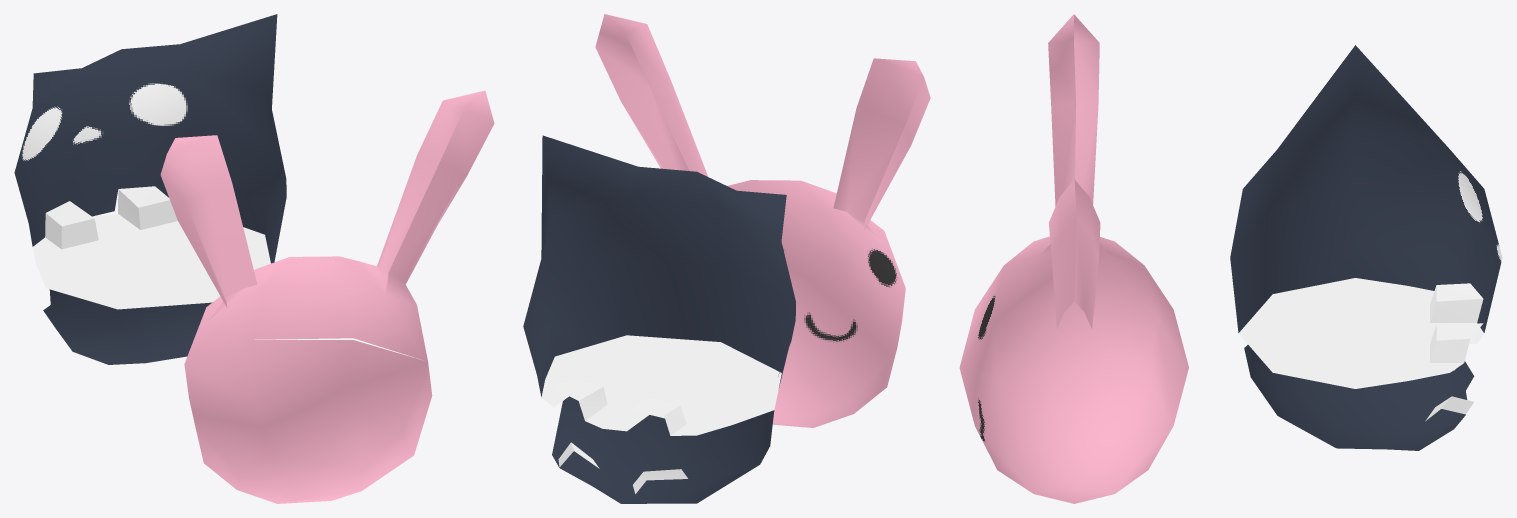
File: ps2_save-icons_dearmysun.glb
3 views of the same model, side by side, from view 1: azimuth 30°, elevation 25°; view 2: azimuth 150°, elevation 25°; view 3: azimuth 270°, elevation 25° (orthographic). The views are drawn at different scales.
Visible parts, largest first — view 1: VIEW.ICO; view 2: VIEW.ICO; view 3: VIEW.ICO.
Boxes of the visible parts, <box> form: VIEW.ICO: <box>14,14,494,503</box>; VIEW.ICO: <box>523,14,930,503</box>; VIEW.ICO: <box>959,14,1502,503</box>.
Bounding box in the file's own units: 2.62 × 2.93 × 3.54.
1 material, 1 textured.
